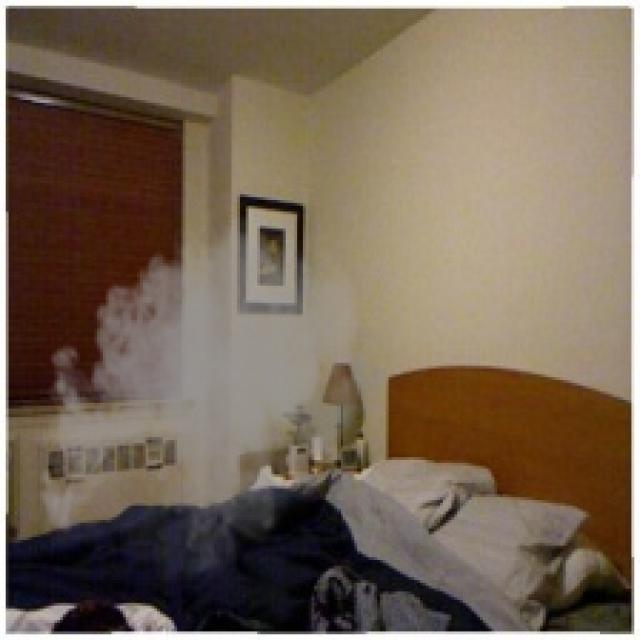smoke: (29, 203, 392, 597)
